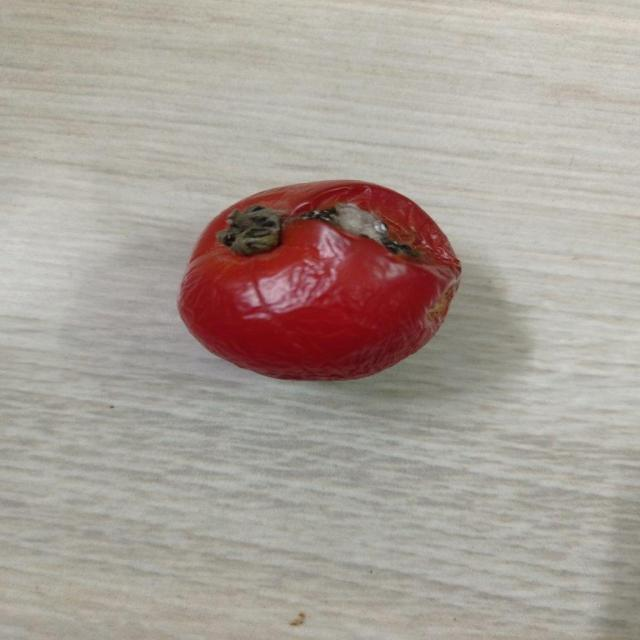Rotten: (177, 177, 463, 385)
